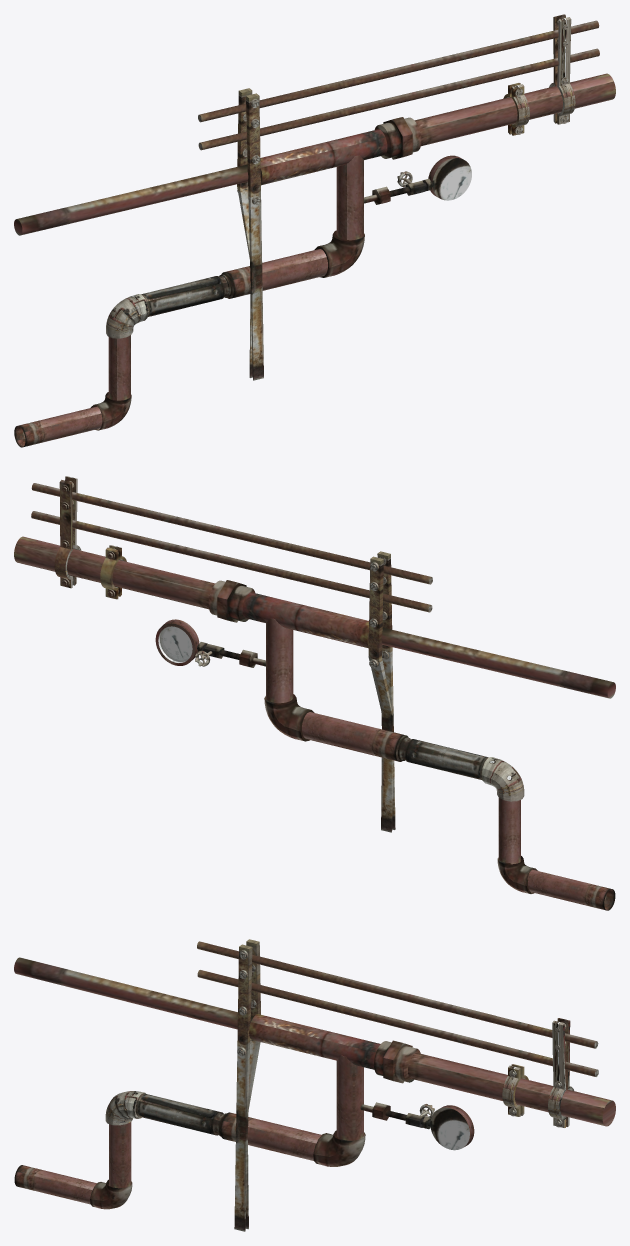
Rendered from RUSTY WITH GAUGES.fbx.
3 views of the same model, one above another, from view 1: azimuth 30°, elevation 25°; view 2: azimuth 150°, elevation 25°; view 3: azimuth 330°, elevation 25° (orthographic).
Parts seen in each view (by area): view 1: RUSTY WITH GAUGES.001; view 2: RUSTY WITH GAUGES.001; view 3: RUSTY WITH GAUGES.001.
Part boxes in pixels (left/top/right/bottom): RUSTY WITH GAUGES.001: left=14, top=14, right=615, bottom=447; RUSTY WITH GAUGES.001: left=14, top=476, right=615, bottom=910; RUSTY WITH GAUGES.001: left=14, top=939, right=615, bottom=1231.
Size of the model in its own units: 19.84 by 9.62 by 1.35.
